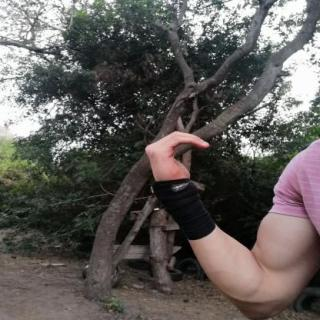HAA: (135, 124, 217, 194)
